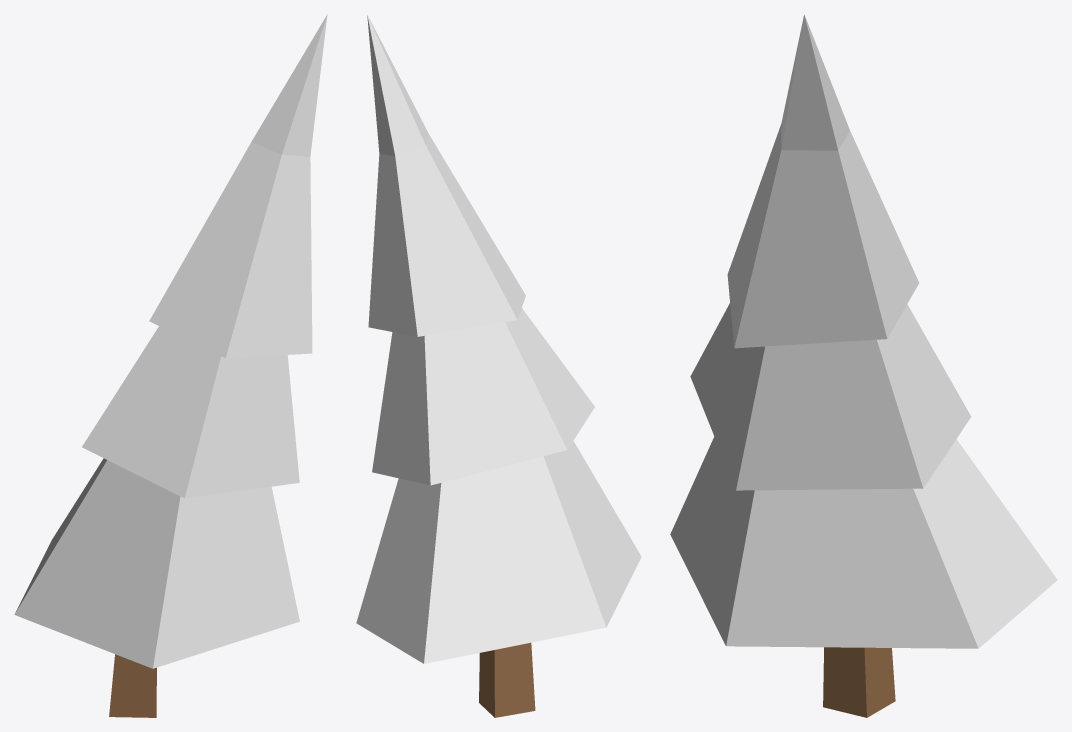
The model's file is Fir_Tree_OneSided_s_Snow_04_LOD.fbx.
3 views of the same model, side by side, from view 1: azimuth 30°, elevation 25°; view 2: azimuth 150°, elevation 25°; view 3: azimuth 270°, elevation 25° (orthographic). The views are drawn at different scales.
Parts seen in each view (by area): view 1: Fir_Tree_OneSided_s_Snow_04_LOD0; view 2: Fir_Tree_OneSided_s_Snow_04_LOD0; view 3: Fir_Tree_OneSided_s_Snow_04_LOD0.
Part boxes in pixels (x1,y1,x2,y2): Fir_Tree_OneSided_s_Snow_04_LOD0: [14, 14, 327, 717]; Fir_Tree_OneSided_s_Snow_04_LOD0: [356, 15, 641, 717]; Fir_Tree_OneSided_s_Snow_04_LOD0: [670, 14, 1057, 717].
Size of what is drawn, in the model's own units: 114 by 258 by 115.
